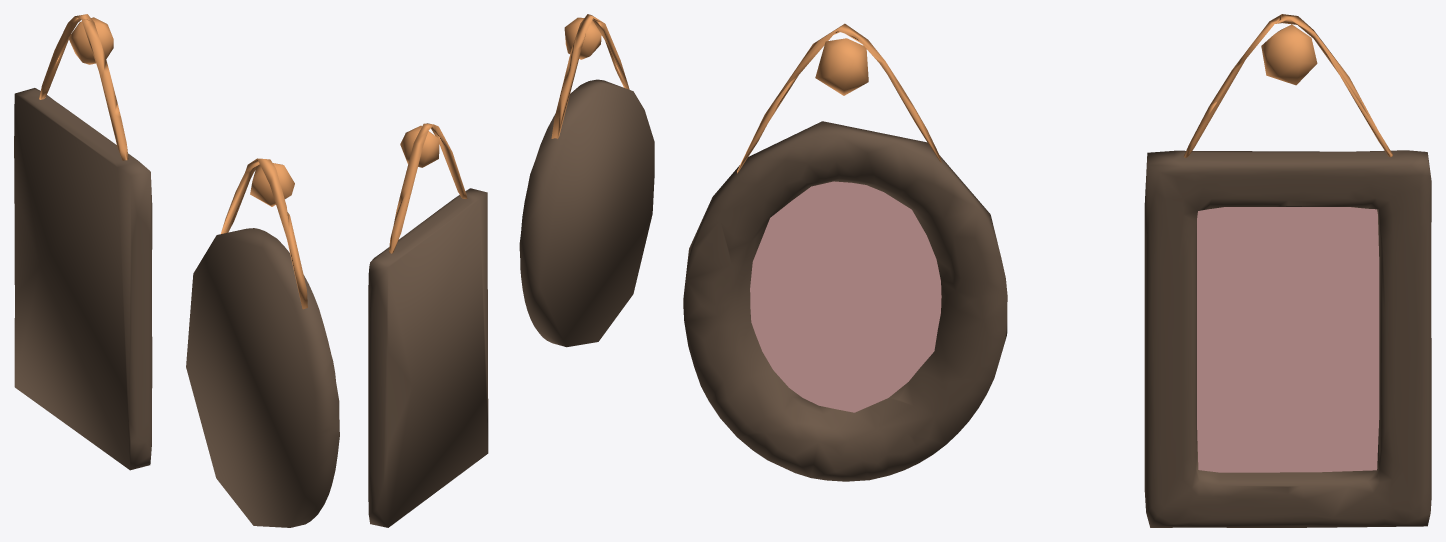
The model's file is picture_frames_low.glb.
The picture shows the model from 3 angles, left to right: view 1: azimuth 30°, elevation 25°; view 2: azimuth 150°, elevation 25°; view 3: azimuth 270°, elevation 25°; orthographic projection. The views are drawn at different scales.
Visible parts, largest first — view 1: ractangular_frame, oval_frame; view 2: ractangular_frame, oval_frame; view 3: ractangular_frame, oval_frame.
Part boxes in pixels (left/top/right/bottom): ractangular_frame: left=14, top=14, right=152, bottom=470; oval_frame: left=186, top=158, right=339, bottom=527; ractangular_frame: left=368, top=123, right=488, bottom=527; oval_frame: left=519, top=14, right=654, bottom=347; ractangular_frame: left=1144, top=14, right=1431, bottom=527; oval_frame: left=683, top=23, right=1007, bottom=481.
Size of the model in its own units: 0.0774 by 0.7639 by 1.02.
